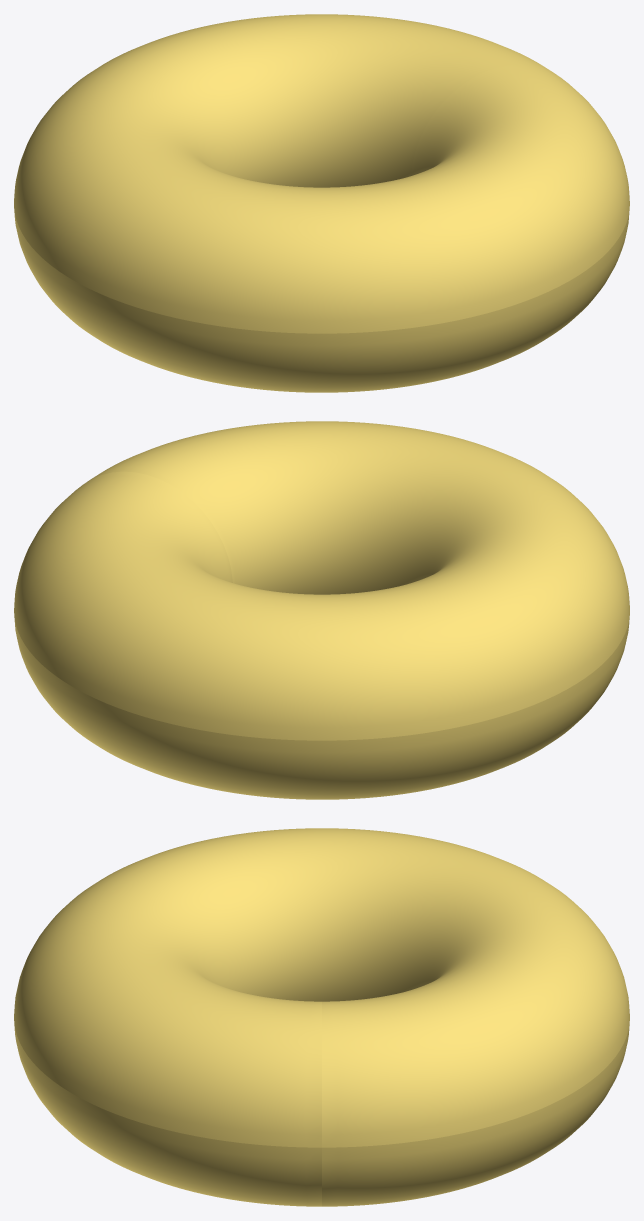
3 renders of one model, top to bottom at view 1: azimuth 30°, elevation 25°; view 2: azimuth 150°, elevation 25°; view 3: azimuth 270°, elevation 25°, orthographic.
Size of the model in its own units: 0.8998 by 0.2998 by 0.8999.
